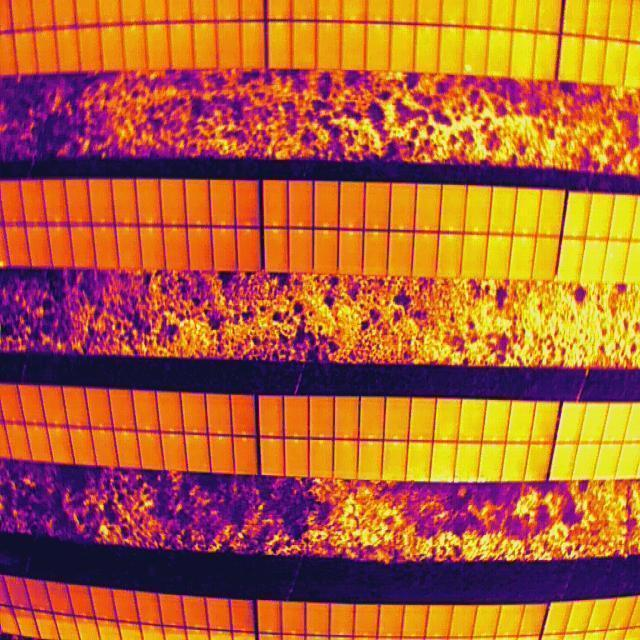hotspot: (463, 62, 474, 73)
